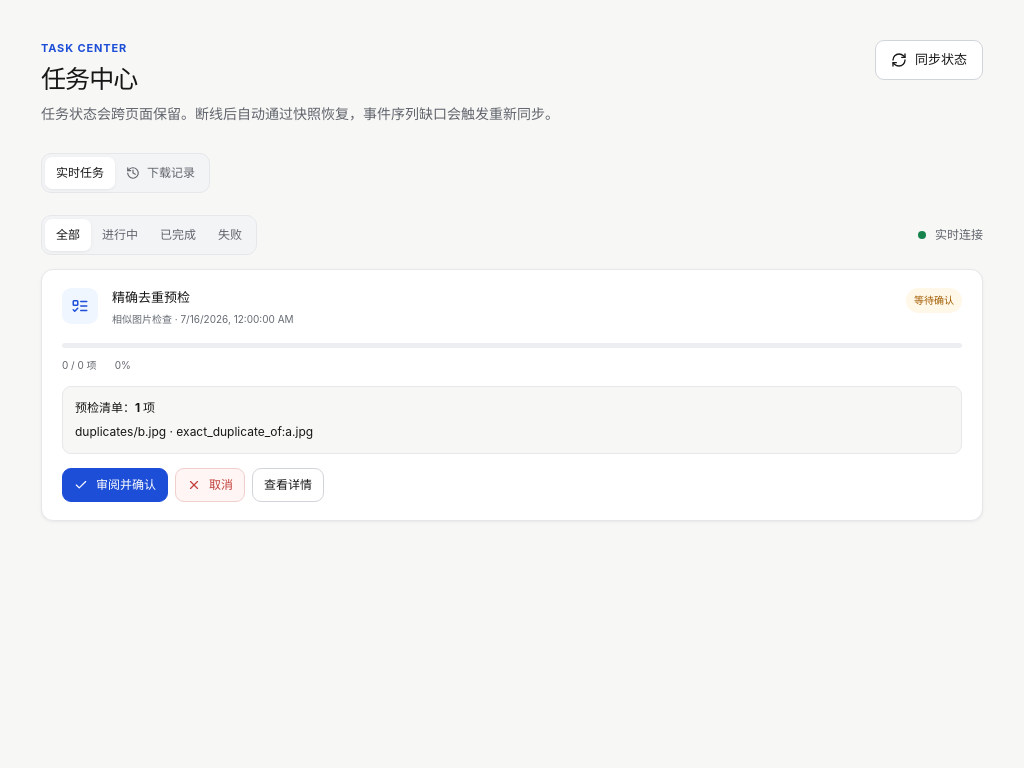
TasksView destructive preflight › makes near-duplicate confirmation explicit while retaining the candidate preview
Expected: the text "duplicates/b.jpg · exact_duplicate_of:a.jpg" is shown, [75,424,313,439]
Click the button "审阅并确认" at (115, 485), box [62,468,168,502]
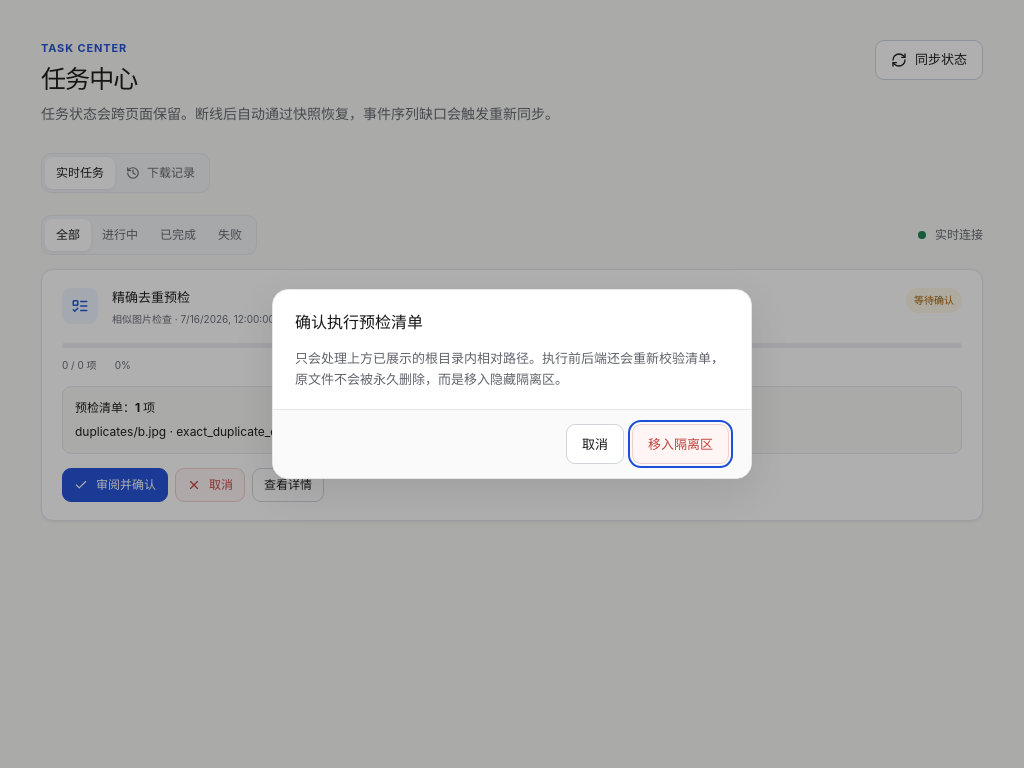
Expected: the dialog is shown, [272,289,752,479]
Expected: the button "移入隔离区" is shown, [632,424,729,464]
